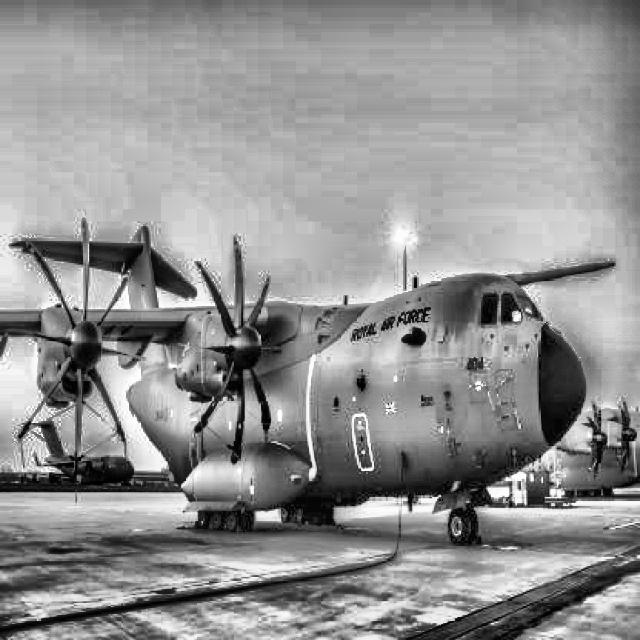A400M: (0, 217, 615, 545), (520, 396, 640, 498)
C17: (20, 418, 134, 485)
